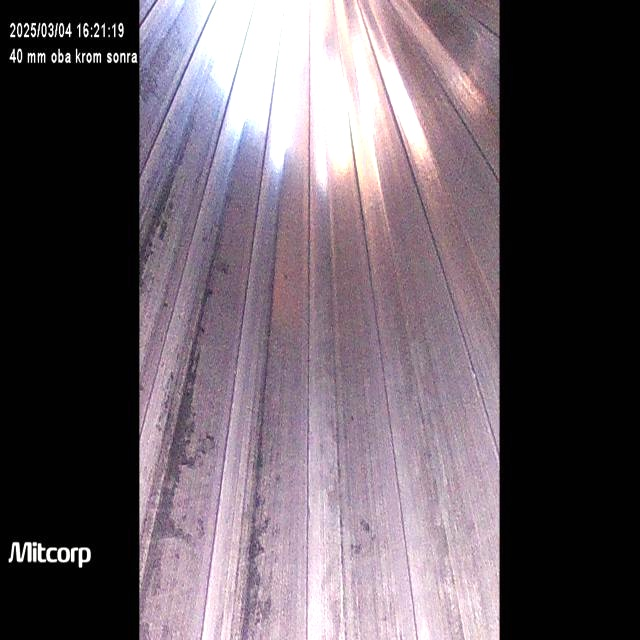hata_8.3: (138, 180, 254, 640), (134, 30, 230, 372), (231, 249, 288, 640)
